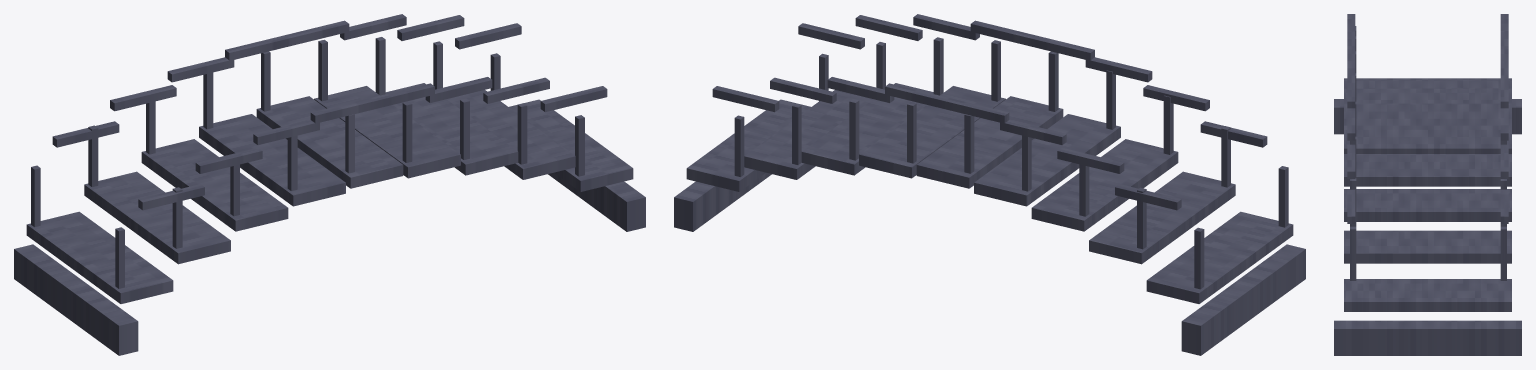
File: KGB_Moonfall_CurvedBridge_v16_lod0.glb
The picture shows the model from 3 angles, left to right: view 1: azimuth 30°, elevation 25°; view 2: azimuth 150°, elevation 25°; view 3: azimuth 270°, elevation 25°; orthographic projection. The views are drawn at different scales.
Parts seen in each view (by area): view 1: world; view 2: world; view 3: world.
Part boxes in pixels (x1,y1,x2,y2): world: (14, 14, 645, 355); world: (674, 14, 1305, 355); world: (1334, 14, 1521, 355).
Size of the model in its own units: 11 by 3.69 by 3.8.
Materials: 1 (1 with a texture image).
